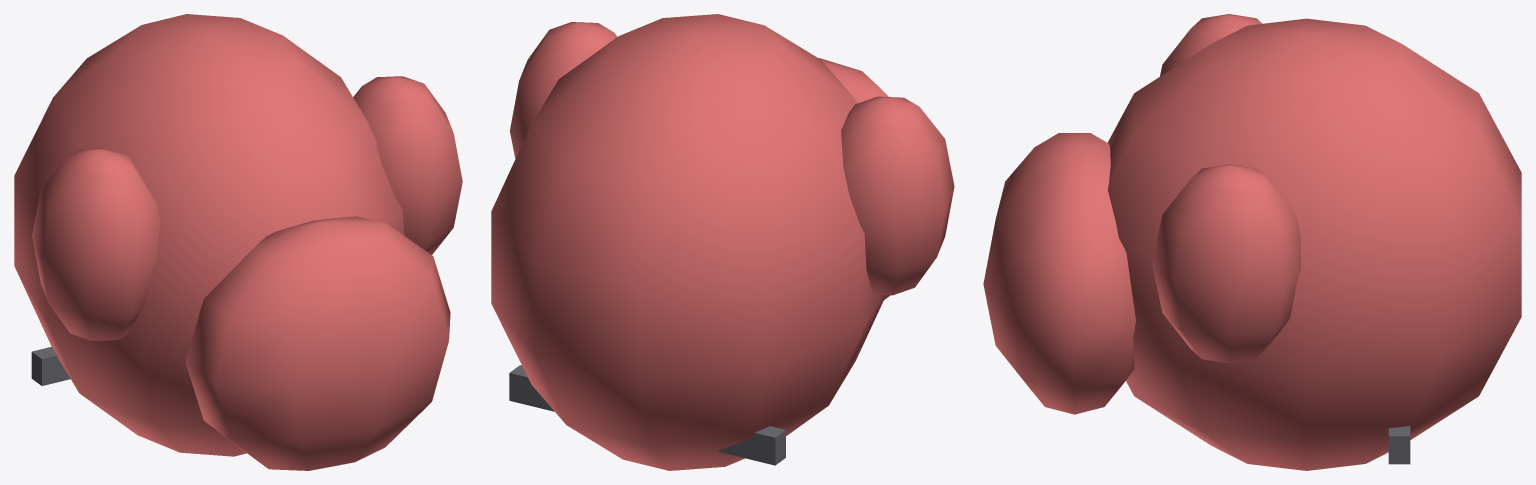
Rendered from headgear.glb.
3 renders of one model, left to right at view 1: azimuth 30°, elevation 25°; view 2: azimuth 150°, elevation 25°; view 3: azimuth 270°, elevation 25°, orthographic. The views are drawn at different scales.
Parts seen in each view (by area): view 1: headgear; view 2: headgear; view 3: headgear.
Boxes of the visible parts, box(x1,y1,x2,y2) form: headgear: box(14, 14, 462, 470); headgear: box(491, 14, 954, 470); headgear: box(983, 14, 1521, 470).
Bounding box in the file's own units: 0.32 × 0.3 × 0.3482.
